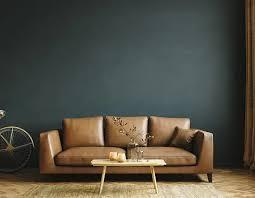sofa: (35, 114, 216, 185)
table: (88, 156, 166, 198)
